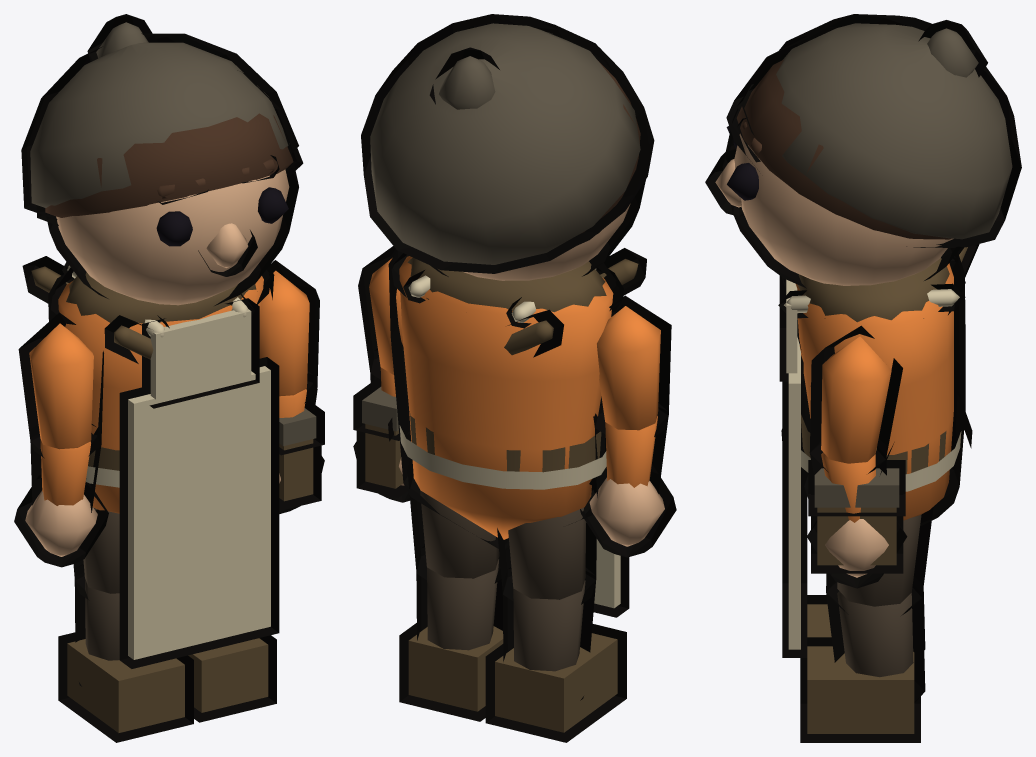
The model's file is chandler.glb.
3 views of the same model, side by side, from view 1: azimuth 30°, elevation 25°; view 2: azimuth 150°, elevation 25°; view 3: azimuth 270°, elevation 25° (orthographic). The views are drawn at different scales.
Parts seen in each view (by area): view 1: Torso.001, Head, Head.001, LegR, ArmR, Torso, ArmL, LegL, HandR; view 2: Head.001, Torso, LegR, LegL, Torso.001, ArmR, HandR, Head, ArmL; view 3: Head.001, Head, Torso, LegL, Torso.001, ArmL, HandL, LegR.
Part boxes in pixels (x1=…): Torso.001: x1=22, y1=256, x2=324, y2=668; Head: x1=36, y1=70, x2=303, y2=305; Head.001: x1=21, y1=14, x2=298, y2=219; LegR: x1=58, y1=508, x2=193, y2=742; ArmR: x1=18, y1=312, x2=103, y2=512; Torso: x1=48, y1=266, x2=274, y2=513; ArmL: x1=259, y1=260, x2=319, y2=417; LegL: x1=188, y1=635, x2=276, y2=722; HandR: x1=14, y1=474, x2=108, y2=567; Head.001: x1=361, y1=14, x2=649, y2=273; Torso: x1=388, y1=250, x2=623, y2=549; LegR: x1=485, y1=484, x2=626, y2=742; LegL: x1=399, y1=459, x2=503, y2=721; Torso.001: x1=353, y1=248, x2=646, y2=617; ArmR: x1=593, y1=295, x2=671, y2=497; HandR: x1=580, y1=464, x2=676, y2=557; Head: x1=421, y1=19, x2=654, y2=280; ArmL: x1=358, y1=246, x2=403, y2=396; Head.001: x1=741, y1=14, x2=1021, y2=247; Head: x1=705, y1=27, x2=978, y2=288; Torso: x1=783, y1=252, x2=965, y2=526; LegL: x1=800, y1=507, x2=933, y2=742; Torso.001: x1=778, y1=244, x2=979, y2=657; ArmL: x1=809, y1=325, x2=902, y2=522; HandL: x1=806, y1=519, x2=907, y2=588; LegR: x1=807, y1=588, x2=925, y2=649.
Size of the model in its own units: 0.9001 by 1.93 by 0.8048.
